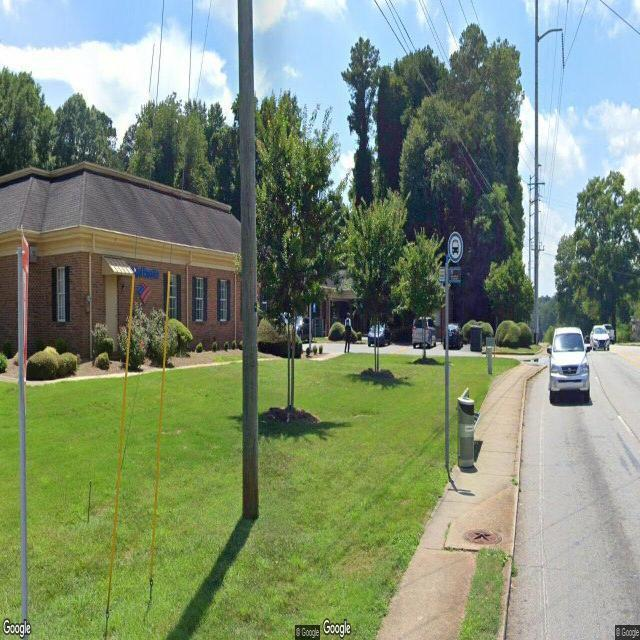seating: (456, 386, 480, 434)
trash_can: (457, 397, 475, 468)
